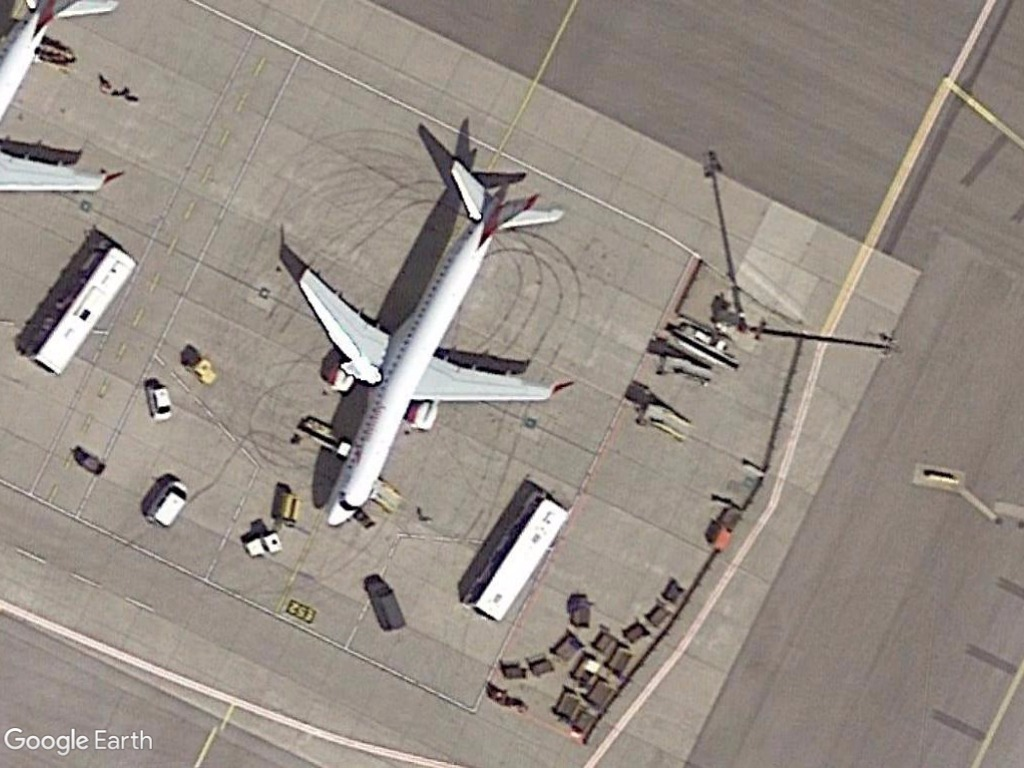airliner: (293, 153, 576, 531)
bus: (29, 244, 135, 380), (470, 490, 569, 626)
stairtruck: (636, 392, 695, 444), (658, 351, 716, 392)
van: (146, 479, 189, 530), (146, 383, 174, 424)
